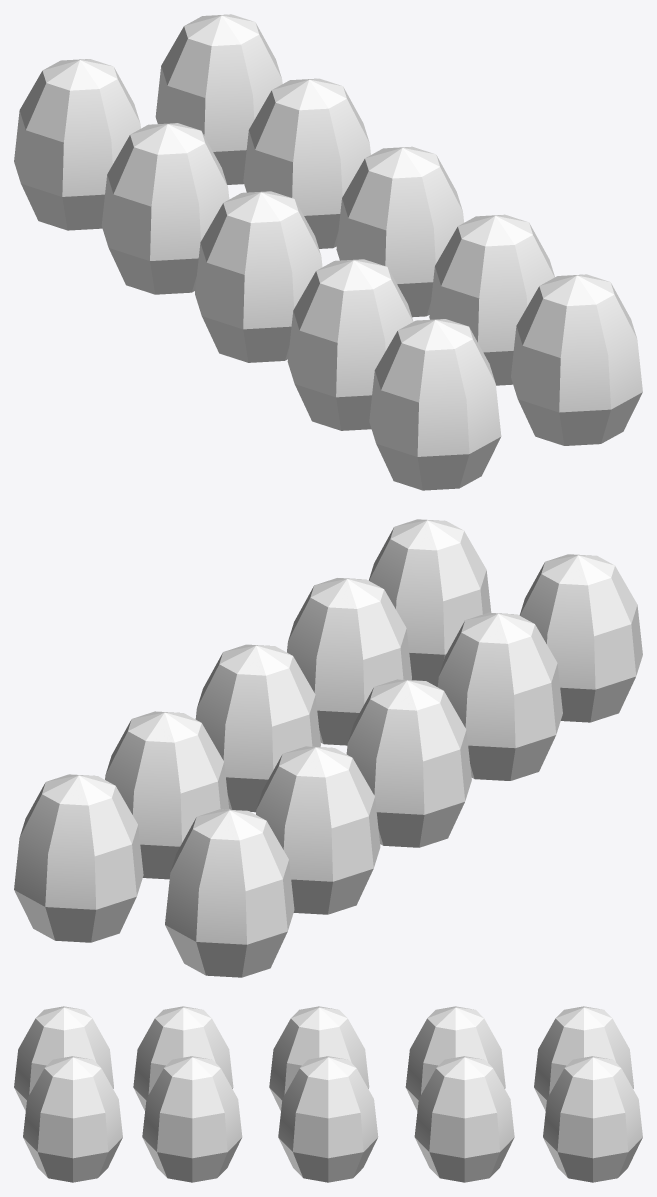
Rendered from eggs.fbx.
3 renders of one model, top to bottom at view 1: azimuth 30°, elevation 25°; view 2: azimuth 150°, elevation 25°; view 3: azimuth 270°, elevation 25°, orthographic. The views are drawn at different scales.
Parts seen in each view (by area): view 1: Cube; view 2: Cube; view 3: Cube.
Part boxes in pixels (bbox=[...]): Cube: bbox=[14, 14, 642, 490]; Cube: bbox=[14, 519, 642, 977]; Cube: bbox=[14, 1006, 642, 1182].
Bounding box in the file's own units: 461 × 287 × 1289.
Materials: 1 (1 with a texture image).
